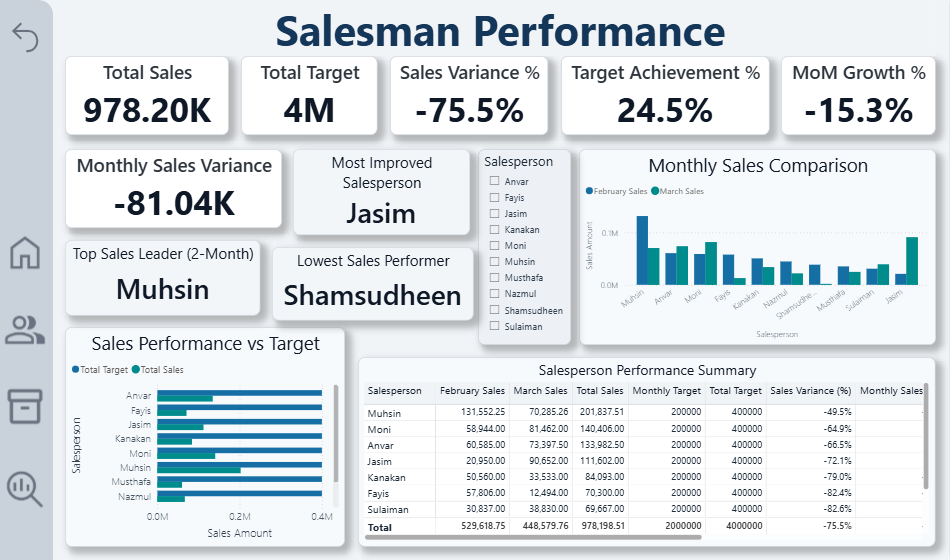

What the dashboard file says about the page in this screenshot:
{"tool":"powerbi","page":{"name":"Salesman Performance","canvas":[1360,800],"ordinal":1},"visuals":[{"type":"shape","box":[0,0,80,800],"z":0,"group":"g1"},{"type":"card","title":"Total Sales","fields":{"Values":["Measure Table.Total Sales"]},"box":[97.5,80,233.8,112.5],"z":0},{"type":"card","title":"Total Target","fields":{"Values":["Measure Table.Total Target"]},"box":[348.8,80,195,112.5],"z":1000},{"type":"actionButton","box":[0,326.2,80,70],"z":1000,"group":"g1"},{"type":"card","title":"Target Achievement %","fields":{"Values":["Measure Table.Target Achievement %"]},"box":[805,80,297.5,112.5],"z":2000},{"type":"actionButton","box":[0,436.2,80,70],"z":2000,"group":"g1"},{"type":"card","title":"MoM Growth %","fields":{"Values":["Measure Table.MoM Growth %"]},"box":[1120,80,221.2,112.5],"z":3000},{"type":"actionButton","box":[0,546.2,80,70],"z":3000,"group":"g1"},{"type":"card","title":"Sales Variance %","fields":{"Values":["Measure Table.Sales Variance %"]},"box":[561.2,80,226.2,112.5],"z":4000},{"type":"actionButton","box":[0,663.8,80,70],"z":4000,"group":"g1"},{"type":"actionButton","box":[0,25,80,55],"z":5000,"group":"g1"},{"type":"clusteredBarChart","title":"Sales Performance vs Target","fields":{"Category":["Sales Report (Feb & Mar).Sales Man"],"Y":["Measure Table.Total Target","Measure Table.Total Sales"]},"box":[97.5,467.5,400,313.8],"z":5000},{"type":"clusteredColumnChart","title":"Monthly Sales Comparison","fields":{"Category":["Sales Report (Feb & Mar).Sales Man"],"Y":["Measure Table.February Sales","Measure Table.March Sales"]},"box":[831.2,212.5,510,280],"z":6000},{"type":"card","title":"Monthly Sales Variance","fields":{"Values":["Measure Table.Monthly Sales Variance"]},"box":[97.5,212.5,310,112.5],"z":7000},{"type":"pivotTable","title":"Salesperson Performance Summary","fields":{"Rows":["Sales Report (Feb & Mar).Sales Man"],"Values":["Measure Table.February Sales","Measure Table.March Sales","Measure Table.Total Sales","Measure Table.Monthly Target","Measure Table.Total Target","Measure Table.Sales Variance %","Measure Table.Monthly Sales Variance","Measure Table.MoM Growth %","Measure Table.Target Achievement %"]},"box":[516.2,510,825,271.2],"z":8000},{"type":"slicer","title":"Salesperson","fields":{"Values":["Sales Report (Feb & Mar).Sales Man"]},"box":[687.5,212.5,132.5,280],"z":9000},{"type":"card","title":"Top Sales Leader (2-Month)","fields":{"Values":["Min(Sales Report (Feb & Mar).Sales Man)"]},"box":[97.5,342.5,278.8,107.5],"z":10000},{"type":"card","title":"Lowest Sales Performer","fields":{"Values":["Min(Sales Report (Feb & Mar).Sales Man)"]},"box":[392.5,352.5,287.5,105],"z":11000},{"type":"card","title":"Most Improved Salesperson","fields":{"Values":["Min(Sales Report (Feb & Mar).Sales Man)"]},"box":[422.5,212.5,252.5,122.5],"z":12000},{"type":"shape","box":[97.5,0,1243.8,80],"z":13000},{"type":"group","id":"g1","title":"Group 1","box":[0,0,80,800],"z":14000}]}

Visuals, with their boxes on the page's 1360x800 design canvas (x1, y1, x2, y2). These are canvas units, not pixel positions in the 950x560 screenshot, which may show the page scaled, cropped or inside an application window:
shape: l=0, t=0, r=80, b=800
"Total Sales" card: l=98, t=80, r=331, b=192
"Total Target" card: l=349, t=80, r=544, b=192
actionButton: l=0, t=326, r=80, b=396
"Target Achievement %" card: l=805, t=80, r=1102, b=192
actionButton: l=0, t=436, r=80, b=506
"MoM Growth %" card: l=1120, t=80, r=1341, b=192
actionButton: l=0, t=546, r=80, b=616
"Sales Variance %" card: l=561, t=80, r=787, b=192
actionButton: l=0, t=664, r=80, b=734
actionButton: l=0, t=25, r=80, b=80
"Sales Performance vs Target" clusteredBarChart: l=98, t=468, r=498, b=781
"Monthly Sales Comparison" clusteredColumnChart: l=831, t=212, r=1341, b=492
"Monthly Sales Variance" card: l=98, t=212, r=408, b=325
"Salesperson Performance Summary" pivotTable: l=516, t=510, r=1341, b=781
"Salesperson" slicer: l=688, t=212, r=820, b=492
"Top Sales Leader (2-Month)" card: l=98, t=342, r=376, b=450
"Lowest Sales Performer" card: l=392, t=352, r=680, b=458
"Most Improved Salesperson" card: l=422, t=212, r=675, b=335
shape: l=98, t=0, r=1341, b=80
"Group 1" group: l=0, t=0, r=80, b=800
